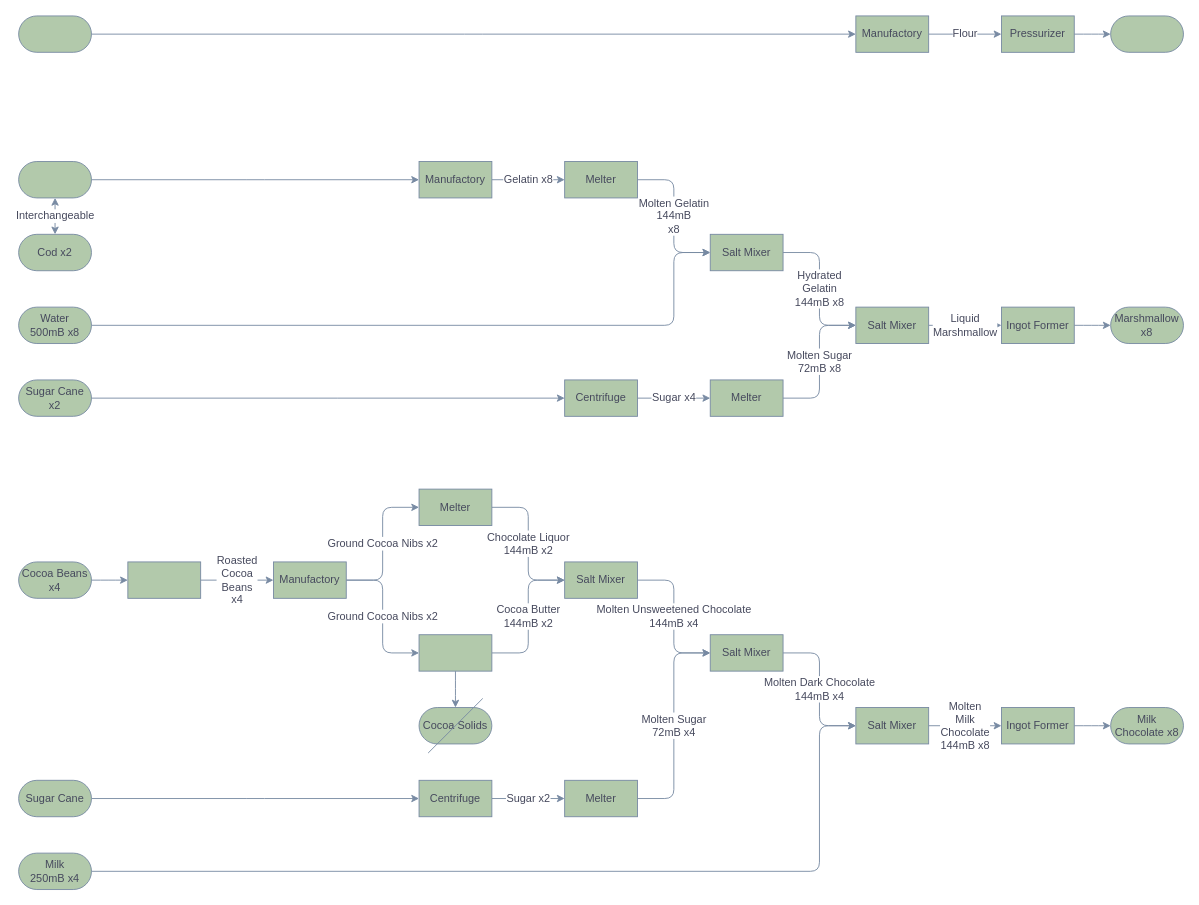
Image size: 1199x905. Some labels were removed from this diagram. The shapes that lost their labels are listed below. From the top down, each one's box as (x1, y1, x2, y2) in pixels, then its label:
(18, 15, 91, 52): Wheat x4
(1110, 15, 1183, 52): Graham Cracker x2
(18, 161, 91, 198): Porkchop
(127, 561, 201, 598): Smelting
(418, 634, 492, 671): Fluid Extractor
